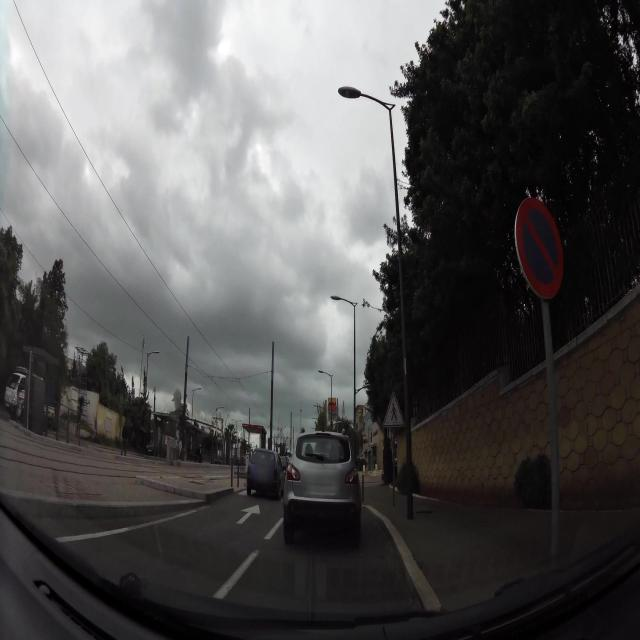forb_stopping: (515, 193, 565, 302)
